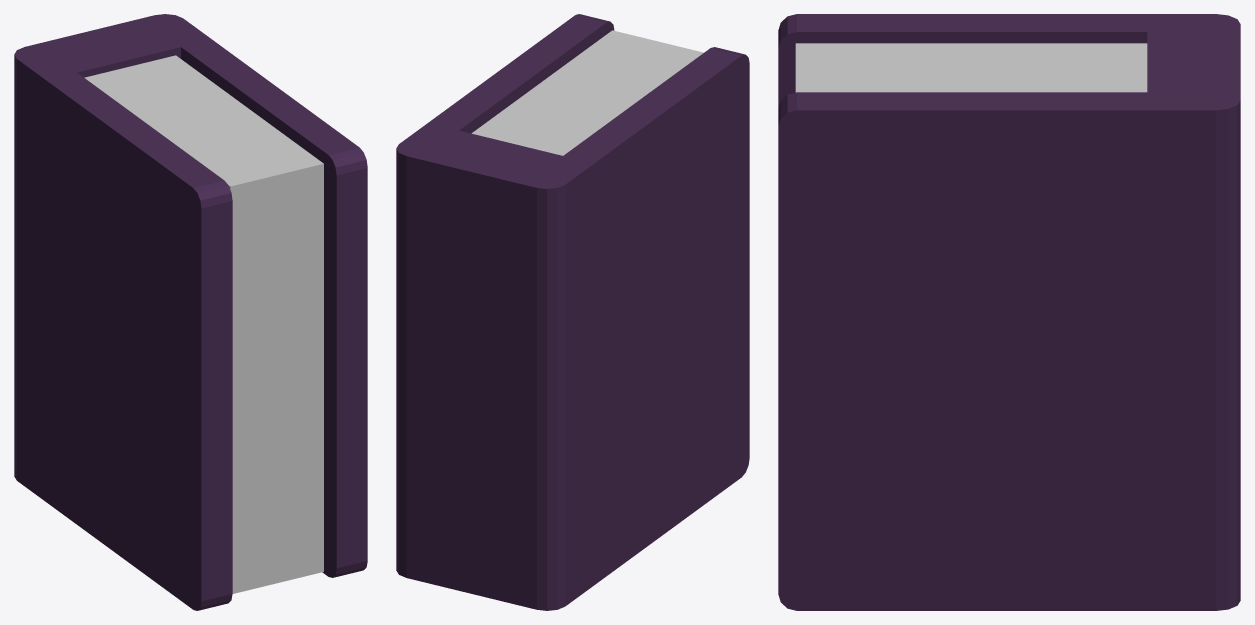
File: kirja1_GJ22.fbx
3 renders of one model, left to right at view 1: azimuth 30°, elevation 25°; view 2: azimuth 150°, elevation 25°; view 3: azimuth 270°, elevation 25°, orthographic. The views are drawn at different scales.
Visible parts, largest first — view 1: kirja; view 2: kirja; view 3: kirja.
Part boxes in pixels (left/top/right/bottom): kirja: left=14, top=14, right=367, bottom=610; kirja: left=396, top=14, right=749, bottom=610; kirja: left=778, top=14, right=1240, bottom=610.
Bounding box in the file's own units: 12.38 × 30 × 25.12.
